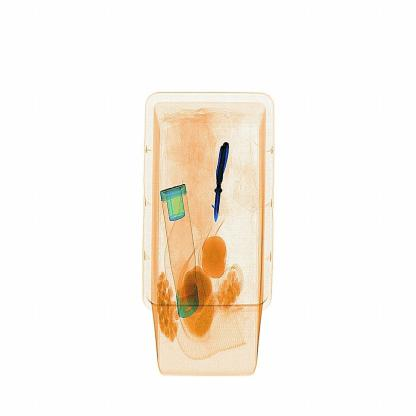gun: (210, 136, 240, 232)
